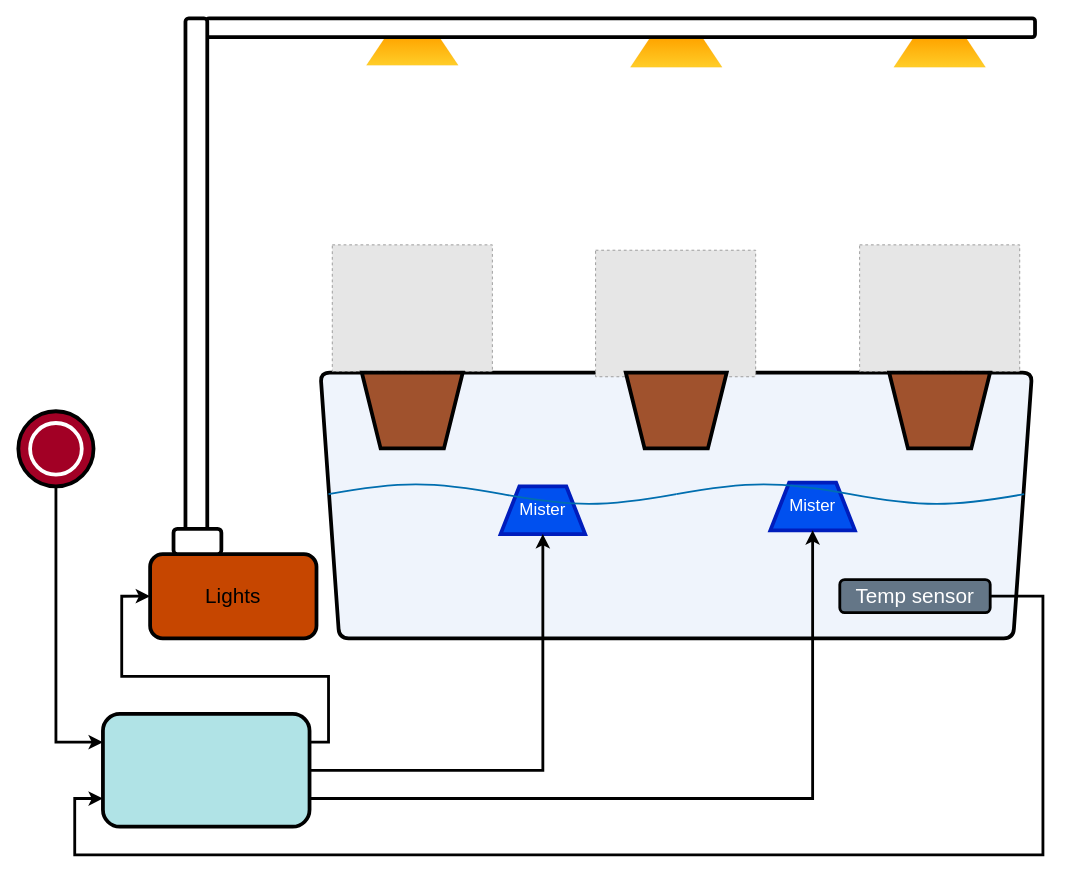
Image size: 1068x880. Some labels were removed from this diagram. Grey dashed boxes stand in for pictures. Here are the shapes that lost their labels. From the top down, the box of each, then its label:
(28, 421, 83, 476): LDR
(101, 712, 311, 828): Controller
